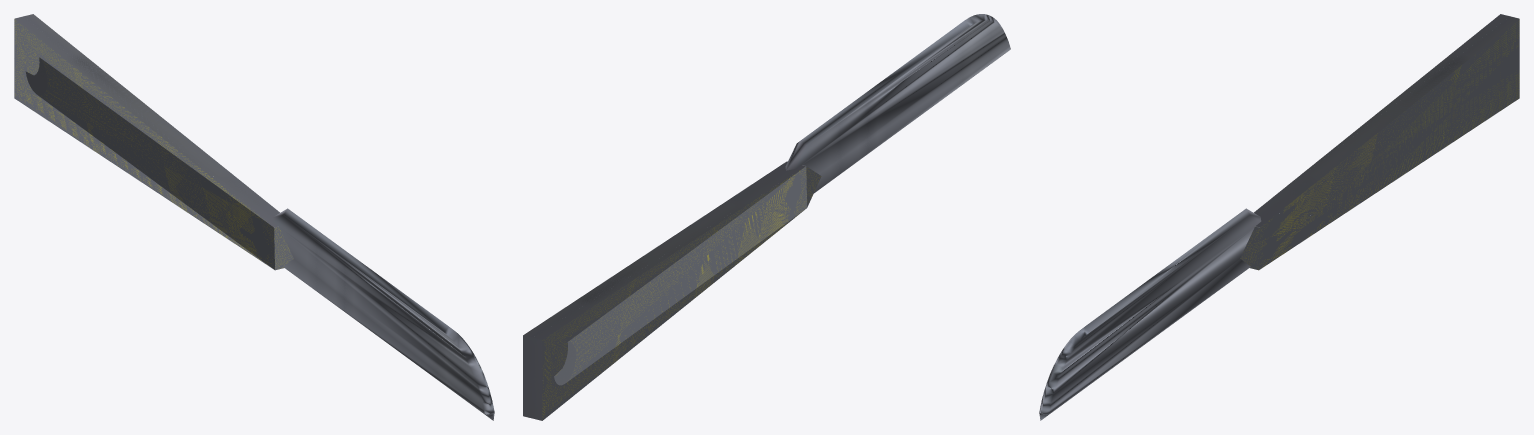
Rendered from model_align.obj.
The picture shows the model from 3 angles, left to right: view 1: azimuth 30°, elevation 25°; view 2: azimuth 150°, elevation 25°; view 3: azimuth 330°, elevation 25°; orthographic projection.
Size of the model in its own units: 0.00506 by 0.0205 by 0.2162.
3 materials, 3 textured.
